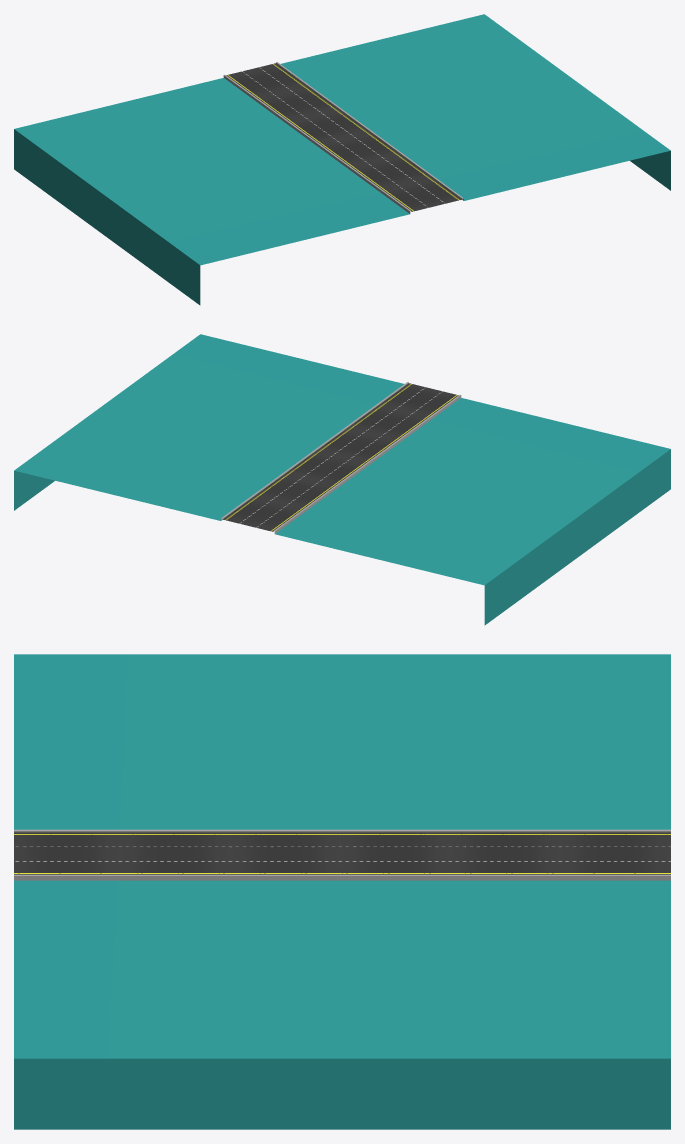
3 renders of one model, top to bottom at view 1: azimuth 30°, elevation 25°; view 2: azimuth 150°, elevation 25°; view 3: azimuth 270°, elevation 25°, orthographic. The views are drawn at different scales.
Parts seen in each view (by area): view 1: City.002, City.001; view 2: City.002, City.001; view 3: City.002, City.001.
Boxes of the visible parts, x1,y1,x2,y2 form: City.002: [14, 14, 670, 305]; City.001: [223, 62, 463, 213]; City.002: [14, 334, 670, 625]; City.001: [221, 382, 461, 533]; City.002: [14, 654, 670, 1129]; City.001: [14, 829, 670, 880].
Bounding box in the file's own units: 4371 × 383 × 3000.
2 materials, 2 textured.
